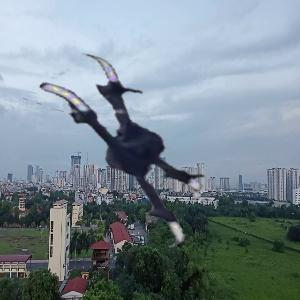drone: (11, 55, 218, 262)
